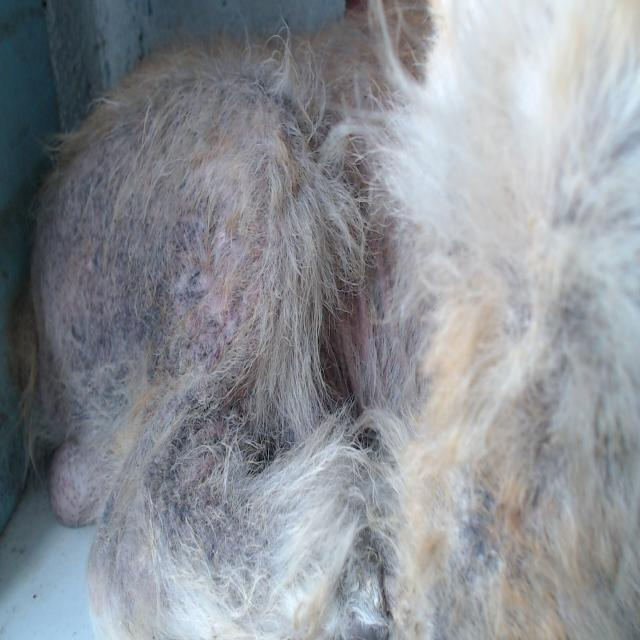demodicosis: (27, 180, 254, 335), (127, 407, 265, 598)
